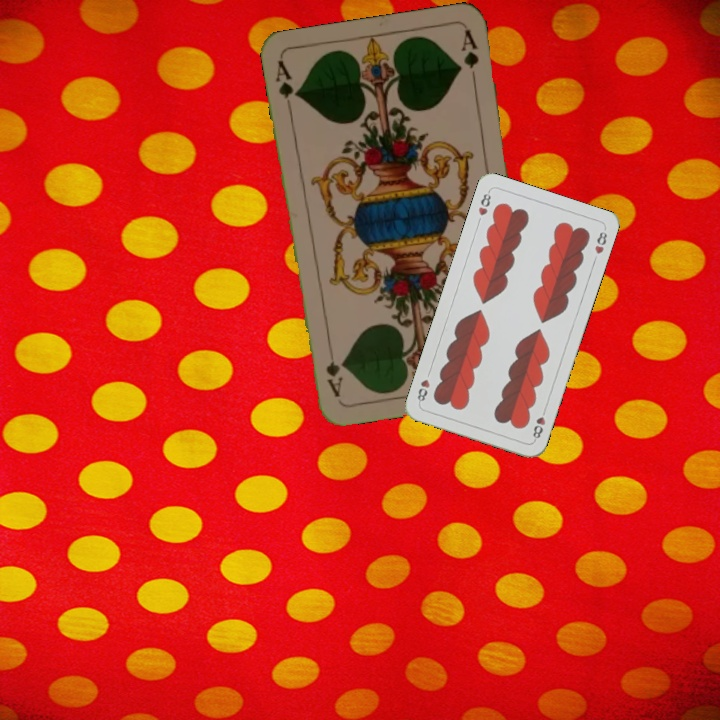GA: (271, 56, 301, 115)
H8: (529, 404, 549, 443), (474, 187, 494, 218)
